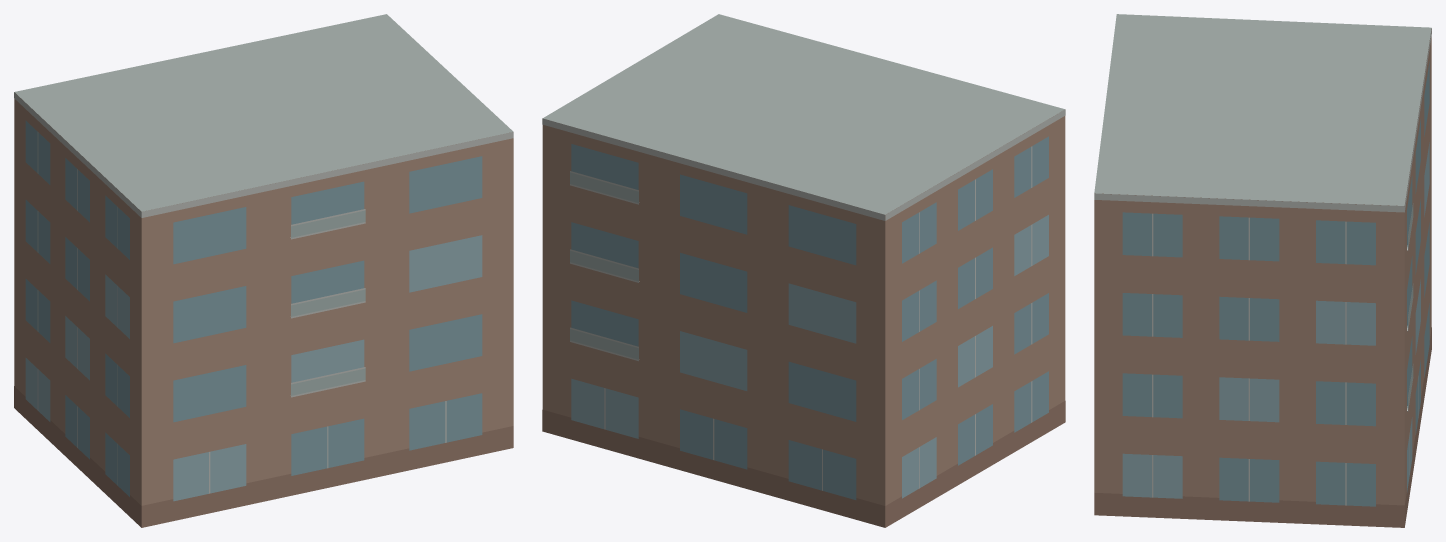
The model's file is survey-upis-32811497.glb.
3 views of the same model, side by side, from view 1: azimuth 30°, elevation 25°; view 2: azimuth 150°, elevation 25°; view 3: azimuth 270°, elevation 25° (orthographic). The views are drawn at different scales.
Parts seen in each view (by area): view 1: survey-upis-32811497.tmp; view 2: survey-upis-32811497.tmp; view 3: survey-upis-32811497.tmp.
Part boxes in pixels (x1=…): survey-upis-32811497.tmp: x1=14, y1=14, x2=513, y2=527; survey-upis-32811497.tmp: x1=542, y1=14, x2=1065, y2=527; survey-upis-32811497.tmp: x1=1094, y1=14, x2=1431, y2=527.
Size of the model in its own units: 15.62 by 12.2 by 11.61.
